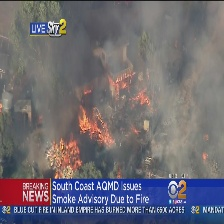fire: (44, 136, 83, 177), (112, 75, 155, 107), (75, 110, 112, 146), (200, 153, 212, 160), (82, 89, 94, 96)
smoke: (84, 1, 224, 68), (164, 19, 224, 135)
